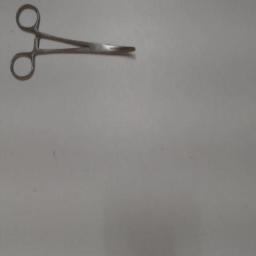Crile Artery Forceps: (7, 1, 141, 85)
